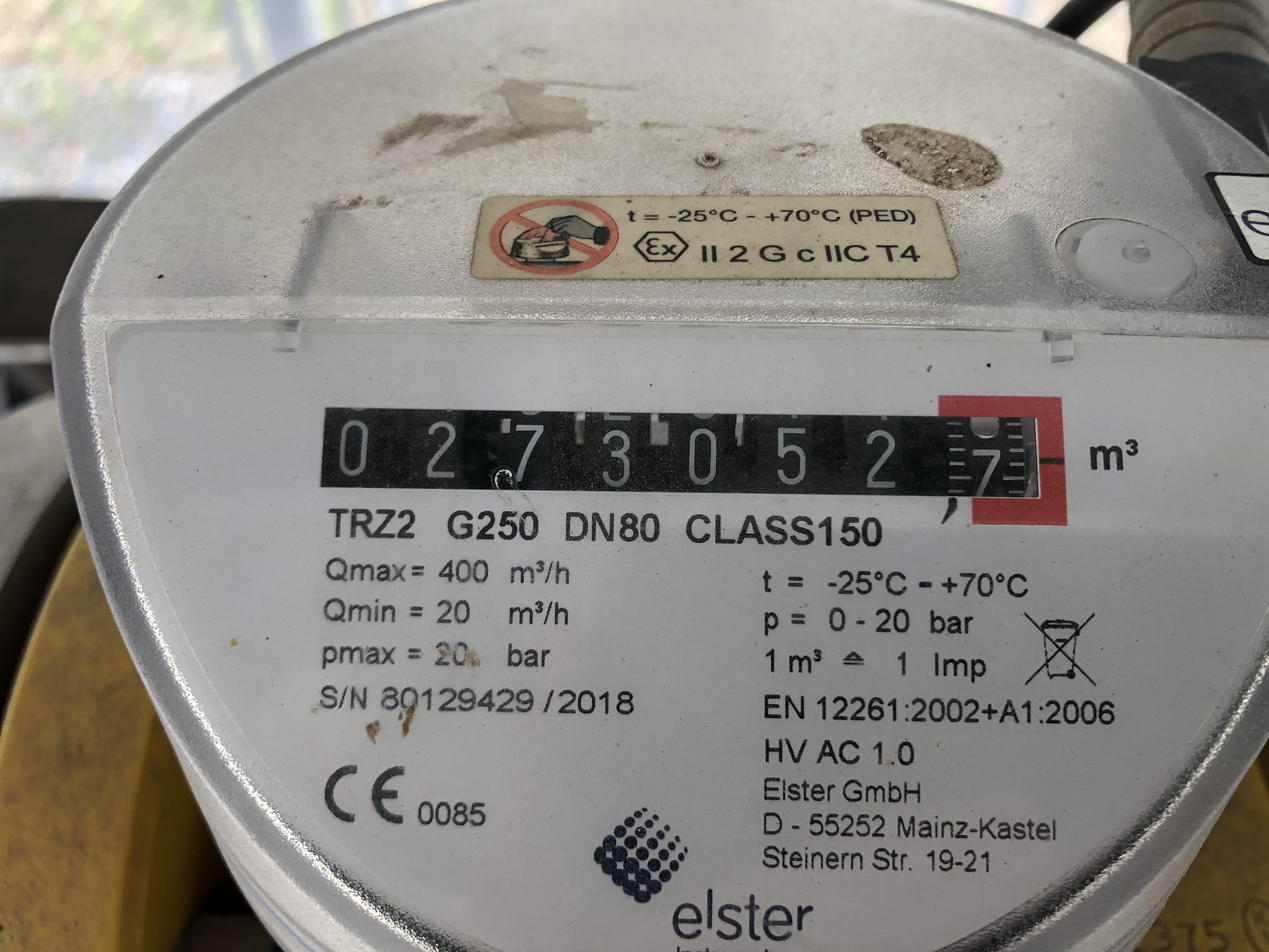analog_dial: (311, 355, 1080, 533)
